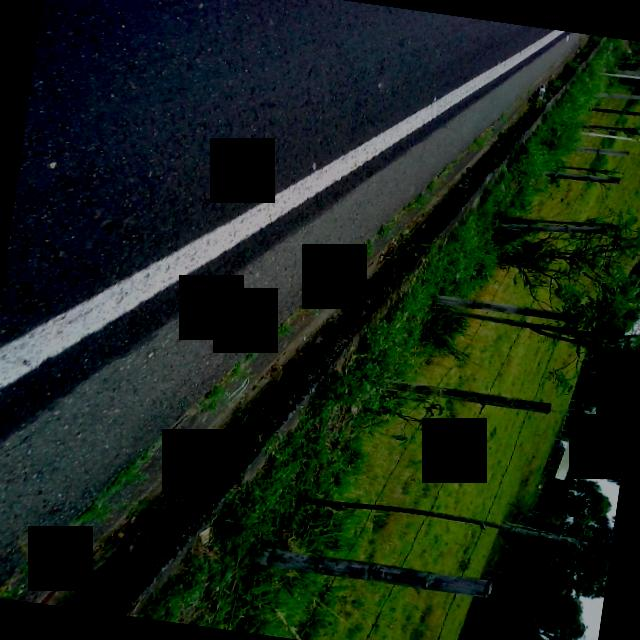DITCH: (0, 0, 640, 640), (0, 0, 621, 640), (0, 0, 599, 640)
